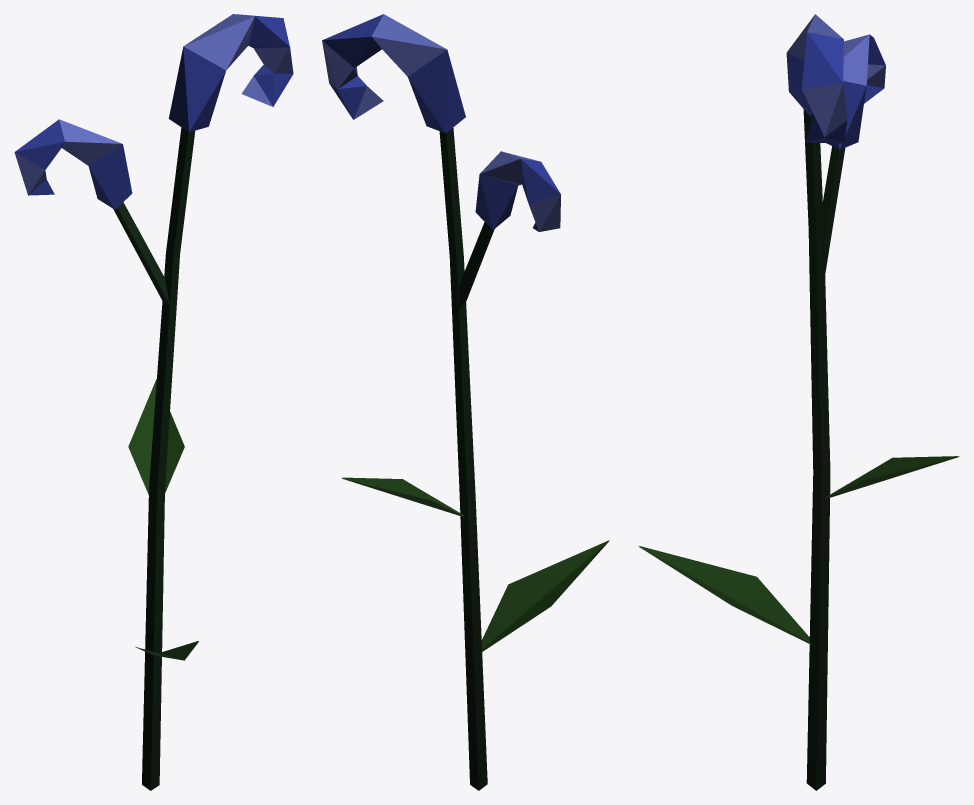
File: bloom_phacelia.fbx
3 renders of one model, left to right at view 1: azimuth 30°, elevation 25°; view 2: azimuth 150°, elevation 25°; view 3: azimuth 270°, elevation 25°, orthographic. The views are drawn at different scales.
Parts seen in each view (by area): view 1: Bloom_Phacelia; view 2: Bloom_Phacelia; view 3: Bloom_Phacelia.
Boxes of the visible parts, x1,y1,x2,y2 form: Bloom_Phacelia: [14, 14, 293, 790]; Bloom_Phacelia: [322, 14, 609, 790]; Bloom_Phacelia: [638, 14, 959, 790].
Size of the model in its own units: 0.1152 by 0.3221 by 0.1164.
